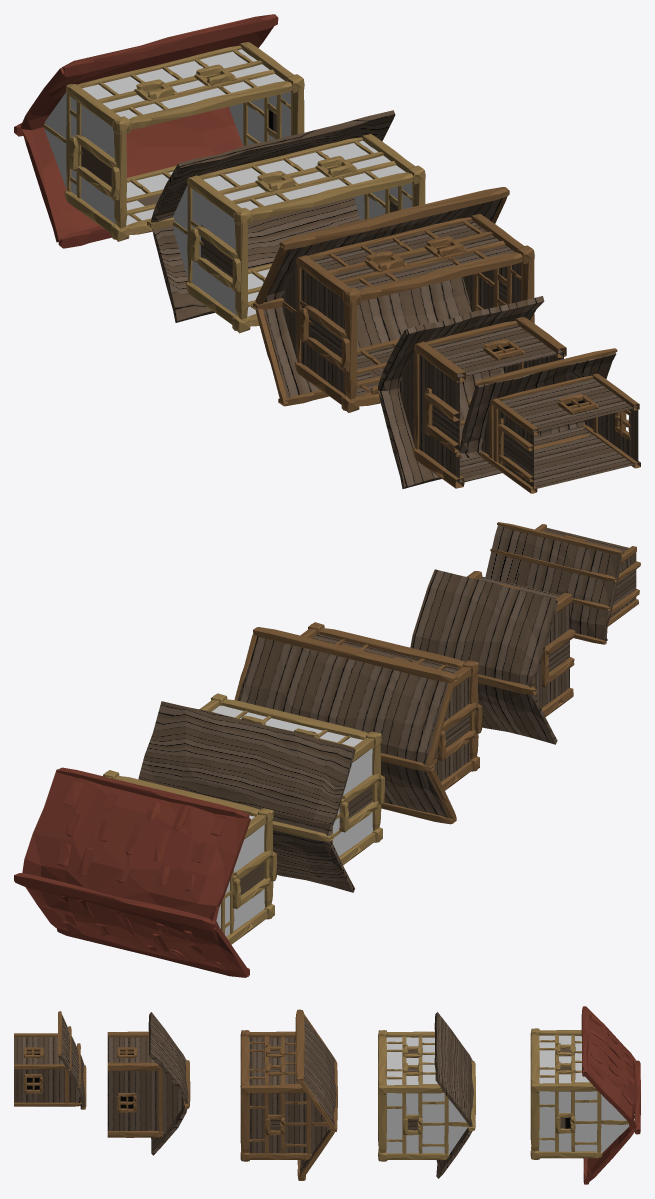
The model's file is house.FBX.
3 views of the same model, one above another, from view 1: azimuth 30°, elevation 25°; view 2: azimuth 150°, elevation 25°; view 3: azimuth 270°, elevation 25° (orthographic). The views are drawn at different scales.
Parts seen in each view (by area): view 1: House_one, House_three, House_two, House_four, House_five; view 2: House_one, House_two, House_three, House_four, House_five; view 3: House_one, House_three, House_two, House_four, House_five.
Part boxes in pixels (<box>): House_one: <box>14,14,304,248</box>; House_three: <box>253,187,534,412</box>; House_two: <box>147,110,425,333</box>; House_four: <box>370,296,566,488</box>; House_five: <box>455,348,640,493</box>; House_one: <box>14,767,277,977</box>; House_two: <box>138,693,385,892</box>; House_three: <box>234,622,482,824</box>; House_four: <box>410,569,575,744</box>; House_five: <box>485,522,640,644</box>; House_one: <box>530,1006,640,1184</box>; House_three: <box>240,1009,337,1180</box>; House_two: <box>378,1012,475,1178</box>; House_four: <box>107,1012,190,1155</box>; House_five: <box>14,1011,86,1109</box>.
Size of the model in its own units: 619 by 483 by 2346.
